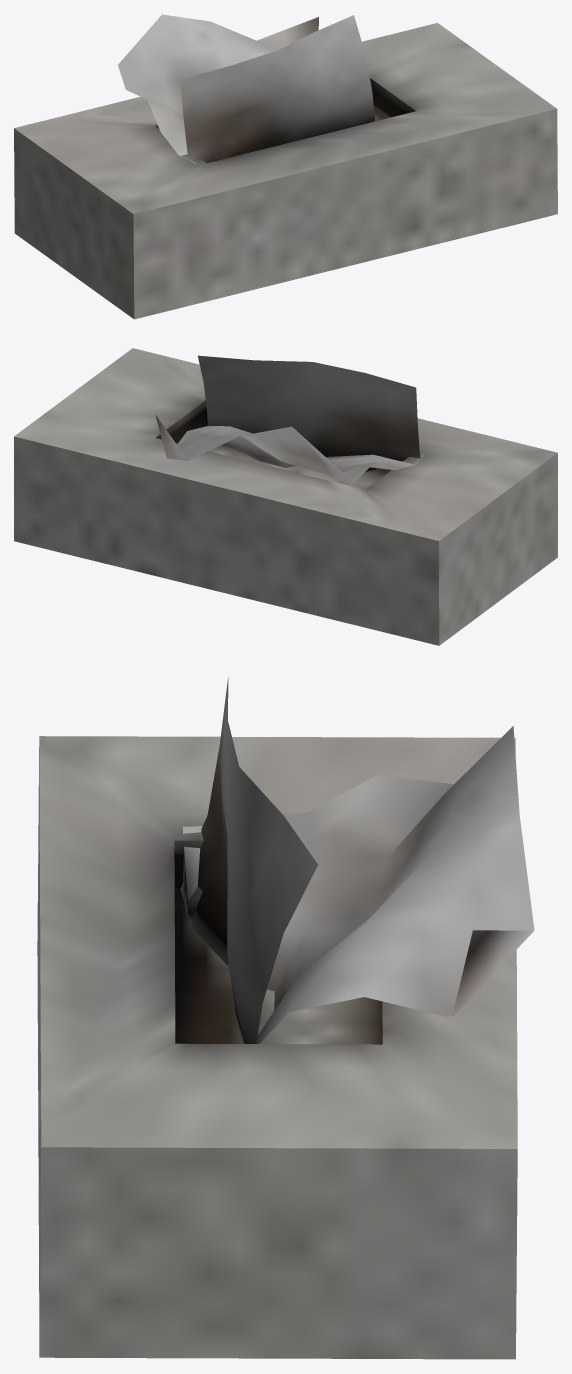
The model's file is TissueBox.FBX.
3 views of the same model, one above another, from view 1: azimuth 30°, elevation 25°; view 2: azimuth 150°, elevation 25°; view 3: azimuth 270°, elevation 25° (orthographic). The views are drawn at different scales.
Parts seen in each view (by area): view 1: TissueBox; view 2: TissueBox; view 3: TissueBox.
Boxes of the visible parts, x1=… form: TissueBox: x1=14, y1=14, x2=557, y2=319; TissueBox: x1=14, y1=348, x2=557, y2=645; TissueBox: x1=37, y1=677, x2=534, y2=1359.
Size of the model in its own units: 25.49 by 11.46 by 12.91.
